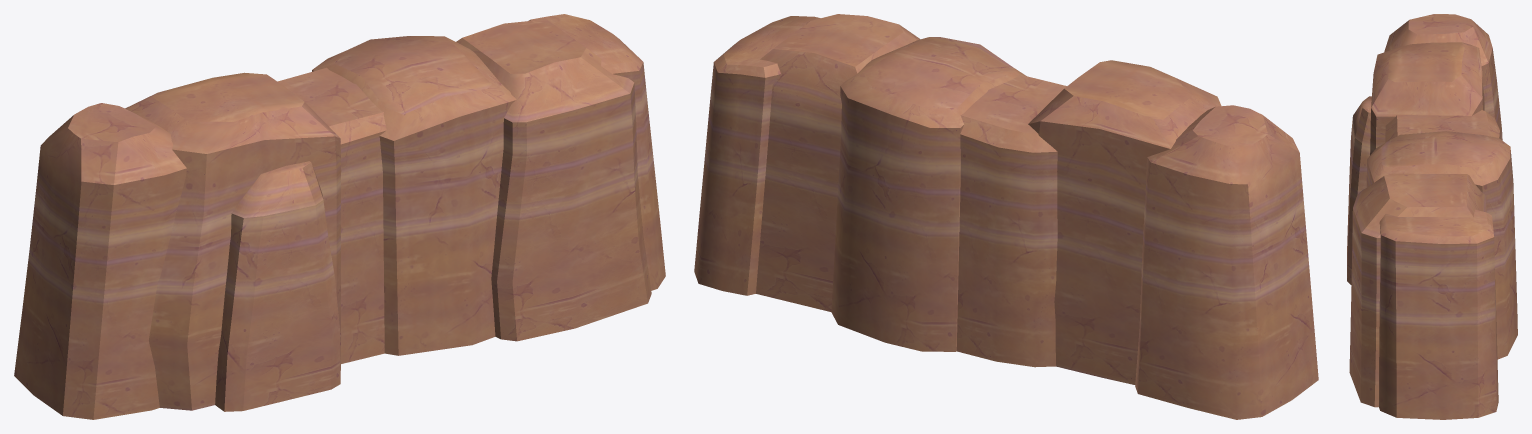
Rendered from SM_Mesa01.fbx.
3 renders of one model, left to right at view 1: azimuth 30°, elevation 25°; view 2: azimuth 150°, elevation 25°; view 3: azimuth 270°, elevation 25°, orthographic. The views are drawn at different scales.
Parts seen in each view (by area): view 1: SM_Mesa01; view 2: SM_Mesa01; view 3: SM_Mesa01.
Boxes of the visible parts, box(x1,y1,x2,y2) form: SM_Mesa01: box(14, 14, 665, 419); SM_Mesa01: box(694, 14, 1318, 419); SM_Mesa01: box(1347, 14, 1517, 419).
Bounding box in the file's own units: 2952 × 1257 × 952.
